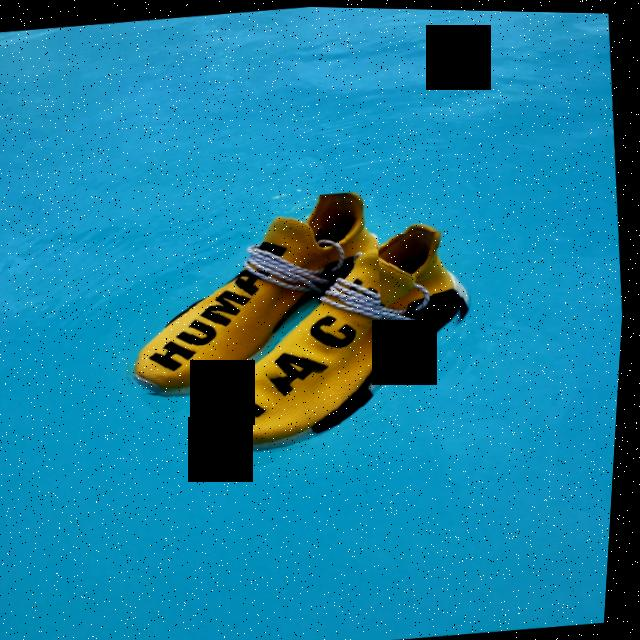shoe: (179, 221, 487, 465), (105, 183, 397, 400)
